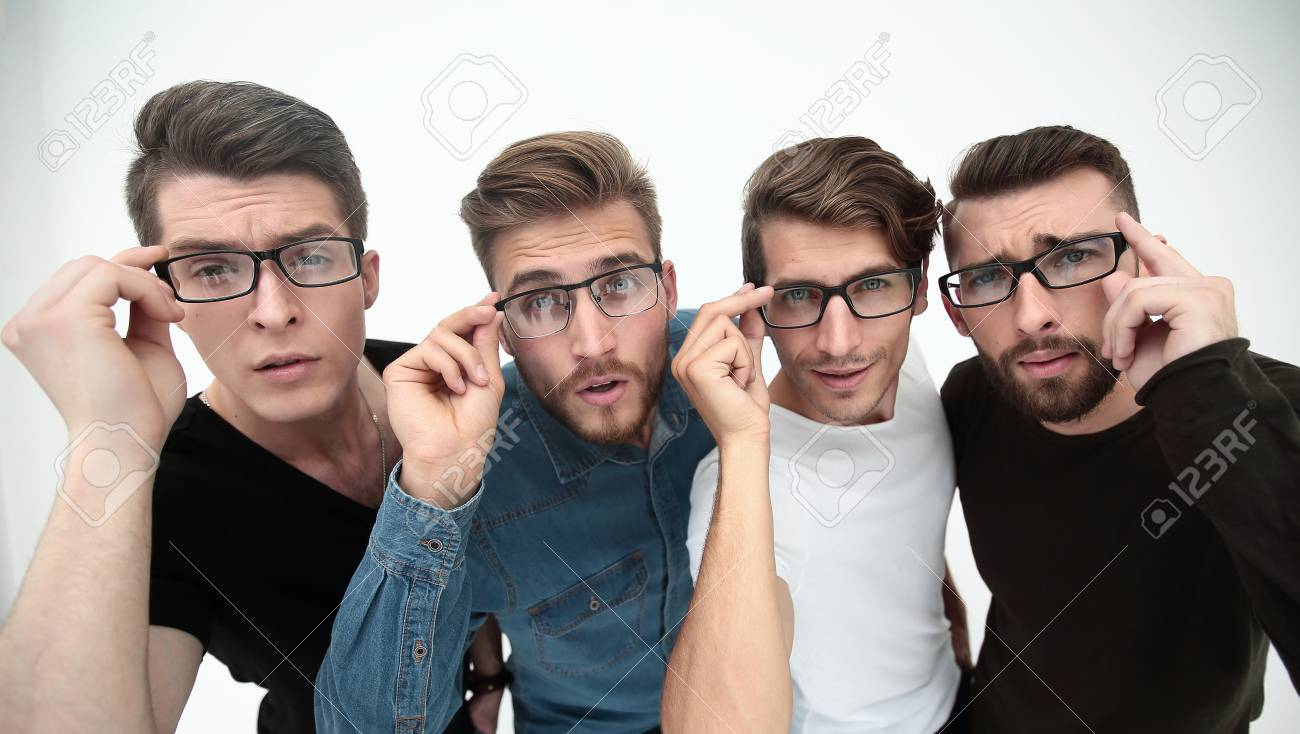bare: (180, 282, 358, 417), (957, 286, 1122, 418), (509, 314, 674, 441), (766, 305, 909, 418)
